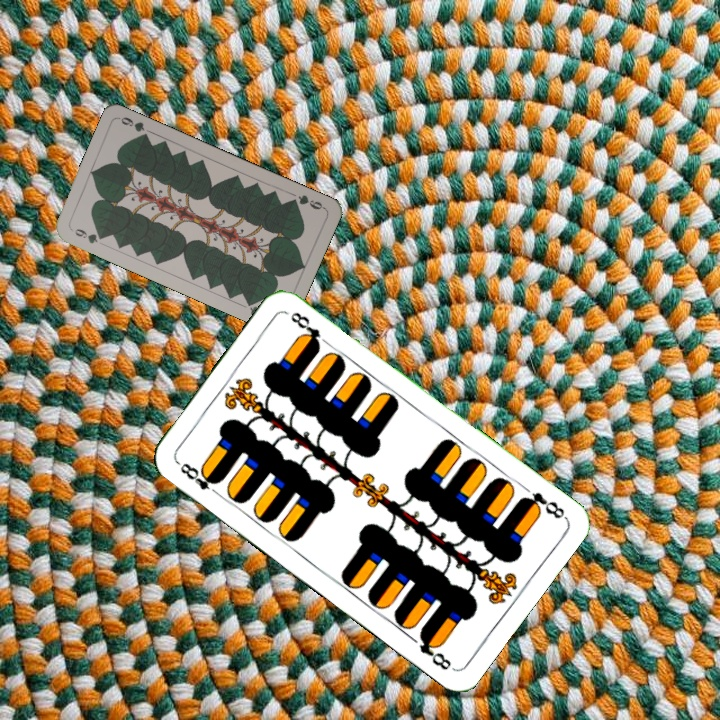E8: (173, 457, 223, 499), (516, 487, 568, 522)
G9: (286, 191, 327, 212), (70, 225, 107, 246)
